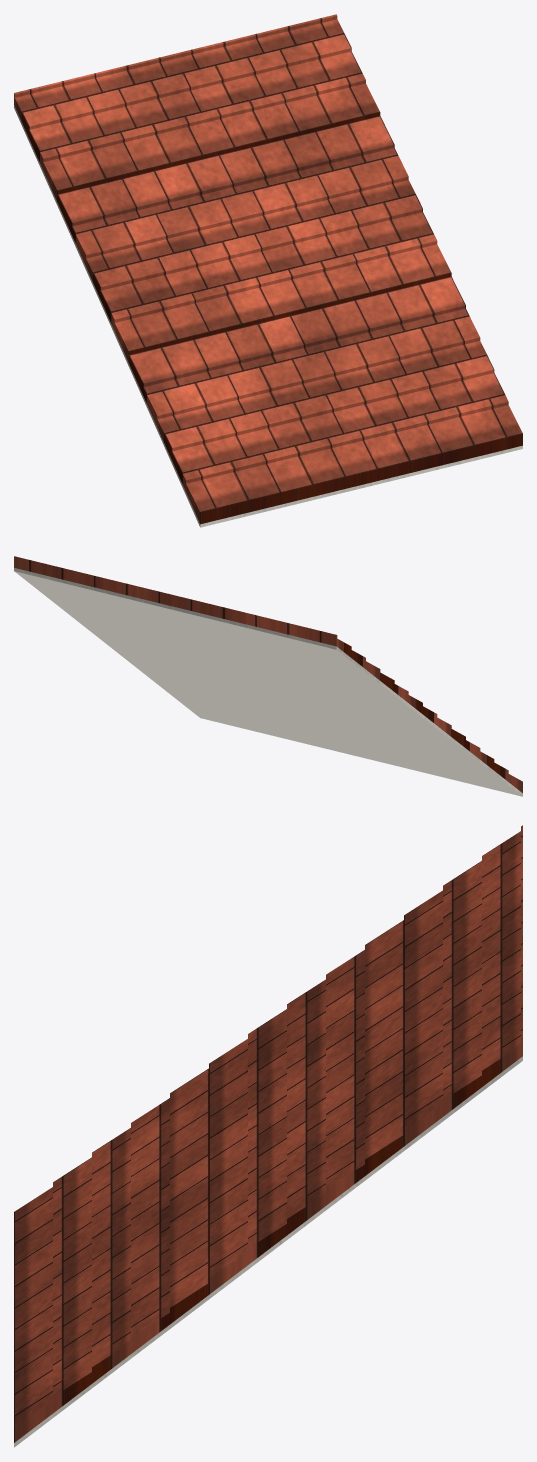
Rendered from groof_wall.glb.
3 views of the same model, one above another, from view 1: azimuth 30°, elevation 25°; view 2: azimuth 150°, elevation 25°; view 3: azimuth 270°, elevation 25° (orthographic). The views are drawn at different scales.
Visible parts, largest first — view 1: groof_wall_shingles, groof_wall_plaster; view 2: groof_wall_plaster, groof_wall_shingles; view 3: groof_wall_shingles, groof_wall_plaster.
Part boxes in pixels (<box>): groof_wall_shingles: <box>14,14,522,524</box>; groof_wall_plaster: <box>14,105,522,527</box>; groof_wall_plaster: <box>14,568,522,796</box>; groof_wall_shingles: <box>14,556,522,792</box>; groof_wall_shingles: <box>14,825,522,1442</box>; groof_wall_plaster: <box>14,1056,522,1447</box>.
Bounding box in the file's own units: 2 × 1.77 × 2.
2 materials, 2 textured.
